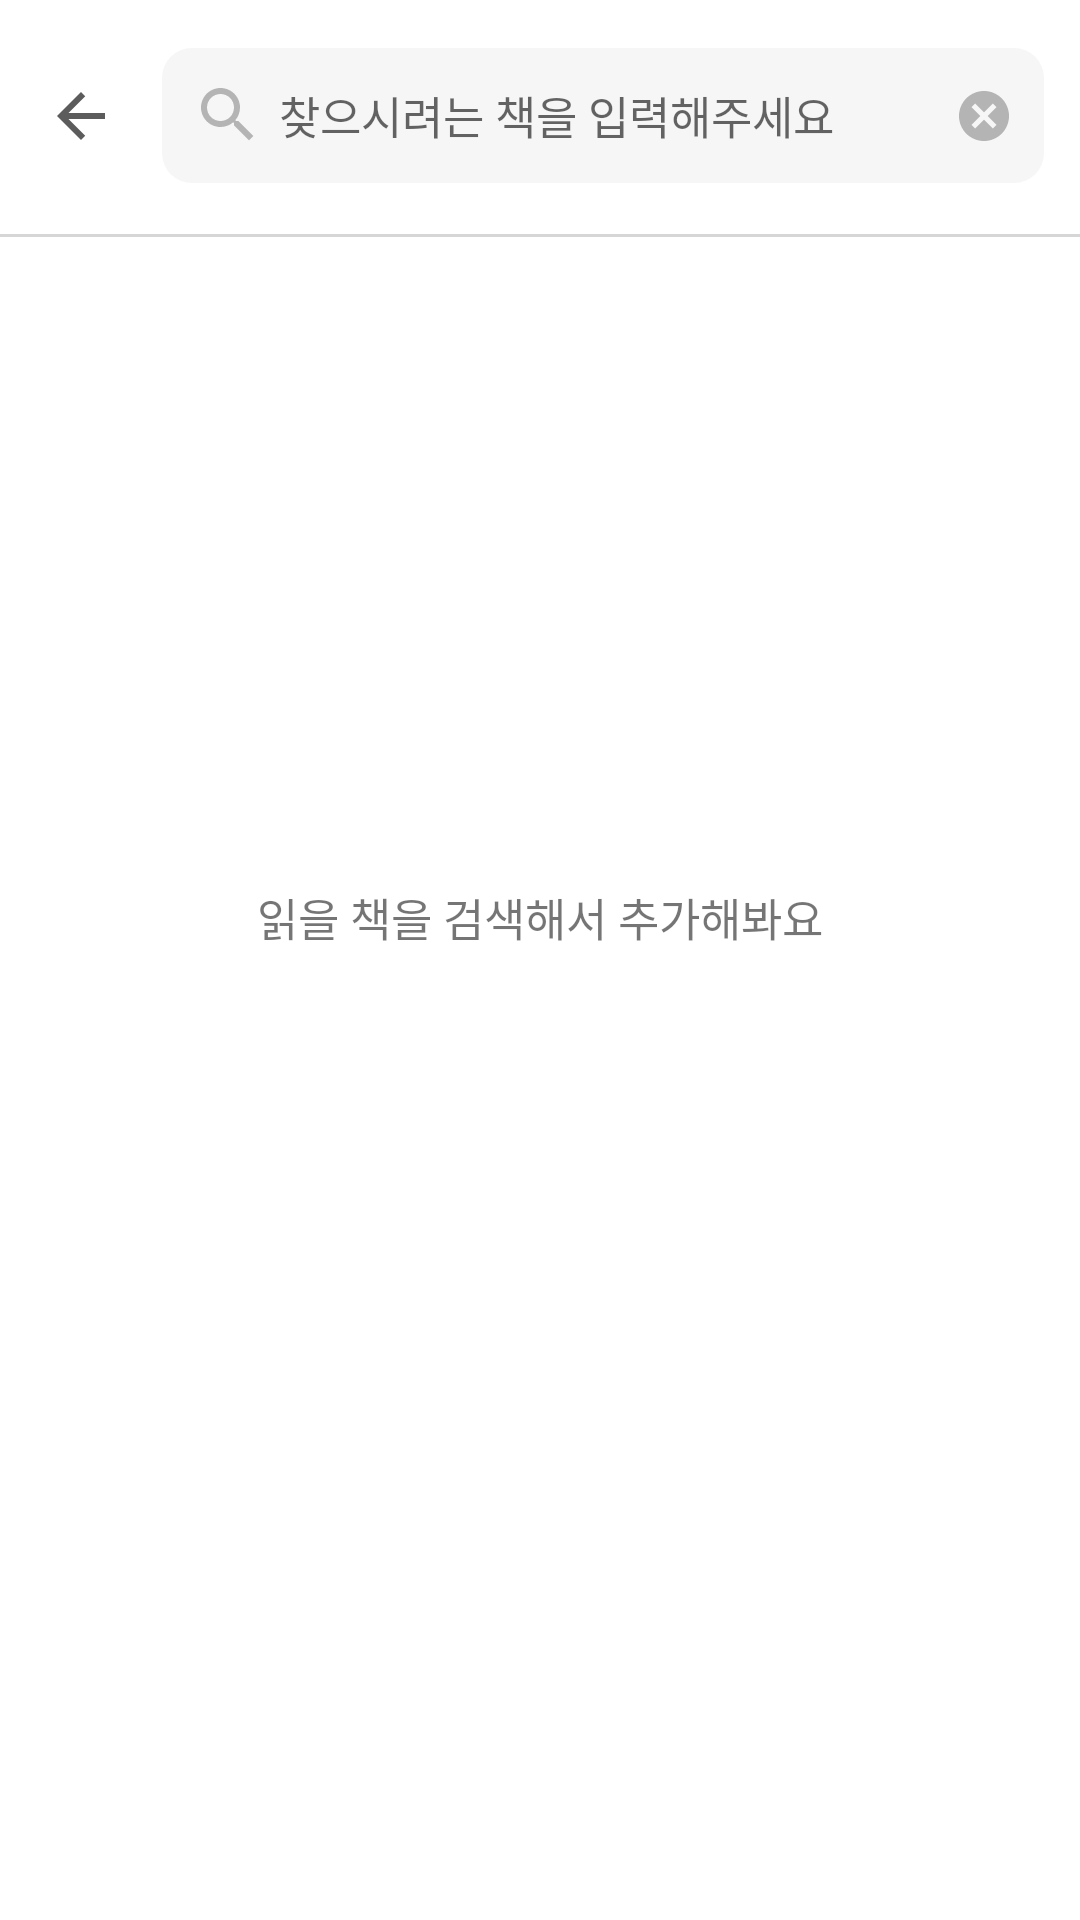

Where icons sit on this 1080 × 1920 app screen, as {"x1": x1, "y1": y1, "x2": x2, "y2": y2}:
arrow back: {"x1": 57, "y1": 92, "x2": 105, "y2": 140}
cancel: {"x1": 959, "y1": 91, "x2": 1009, "y2": 141}
